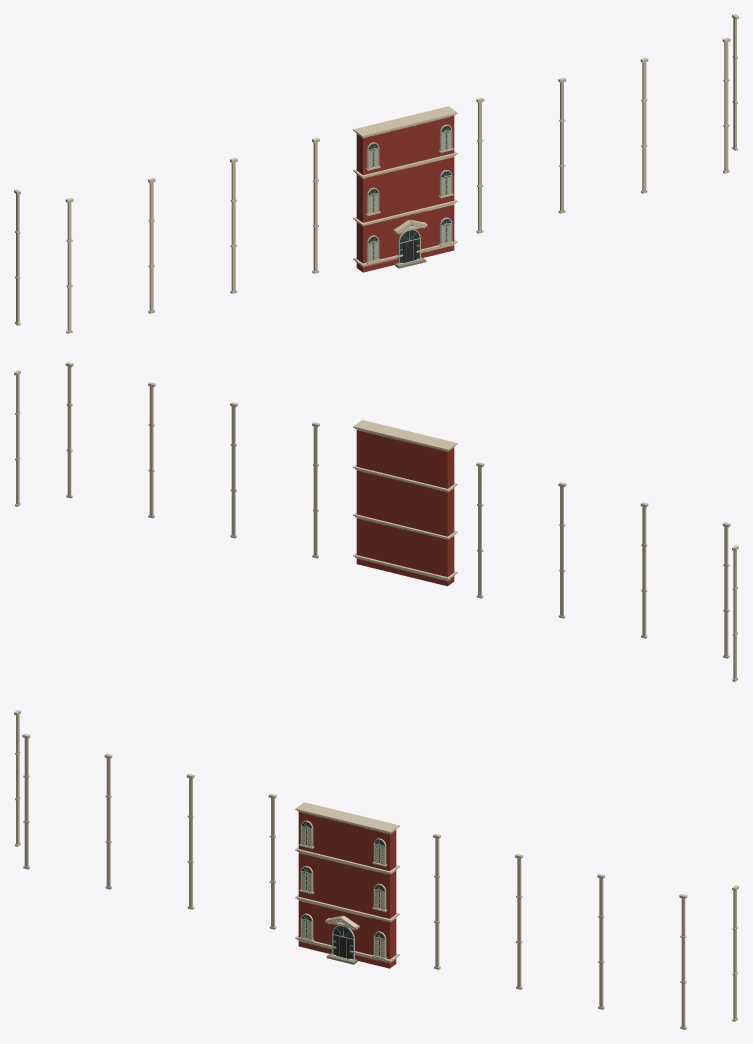
The model's file is KOL_T1_WRITERS__10_Rear_Architecture.fbx.
3 renders of one model, top to bottom at view 1: azimuth 30°, elevation 25°; view 2: azimuth 150°, elevation 25°; view 3: azimuth 330°, elevation 25°, orthographic.
Parts seen in each view (by area): view 1: KOL_T1_WRITERS__10_Rear_Architecture__KOL_T1_HeritageCream, KOL_T1_WRITERS__10_Rear_Architecture__KOL_T1_HeritageRed, KOL_T1_WRITERS__10_Rear_Architecture__KOL_T1_HeritageShutter, KOL_T1_WRITERS__10_Rear_Architecture__KOL_T1_HeritageGlass; view 2: KOL_T1_WRITERS__10_Rear_Architecture__KOL_T1_HeritageRed, KOL_T1_WRITERS__10_Rear_Architecture__KOL_T1_HeritageCream; view 3: KOL_T1_WRITERS__10_Rear_Architecture__KOL_T1_HeritageCream, KOL_T1_WRITERS__10_Rear_Architecture__KOL_T1_HeritageRed, KOL_T1_WRITERS__10_Rear_Architecture__KOL_T1_HeritageShutter, KOL_T1_WRITERS__10_Rear_Architecture__KOL_T1_HeritageGlass.
Part boxes in pixels (x1,y1,x2,y2): KOL_T1_WRITERS__10_Rear_Architecture__KOL_T1_HeritageCream: [14, 14, 738, 333]; KOL_T1_WRITERS__10_Rear_Architecture__KOL_T1_HeritageRed: [356, 115, 454, 272]; KOL_T1_WRITERS__10_Rear_Architecture__KOL_T1_HeritageShutter: [368, 131, 451, 261]; KOL_T1_WRITERS__10_Rear_Architecture__KOL_T1_HeritageGlass: [368, 126, 450, 262]; KOL_T1_WRITERS__10_Rear_Architecture__KOL_T1_HeritageRed: [356, 430, 454, 586]; KOL_T1_WRITERS__10_Rear_Architecture__KOL_T1_HeritageCream: [14, 362, 738, 681]; KOL_T1_WRITERS__10_Rear_Architecture__KOL_T1_HeritageCream: [14, 710, 738, 1029]; KOL_T1_WRITERS__10_Rear_Architecture__KOL_T1_HeritageRed: [298, 811, 396, 968]; KOL_T1_WRITERS__10_Rear_Architecture__KOL_T1_HeritageShutter: [301, 827, 384, 957]; KOL_T1_WRITERS__10_Rear_Architecture__KOL_T1_HeritageGlass: [302, 822, 384, 958].
Bounding box in the file's own units: 316 × 58.22 × 28.85.
